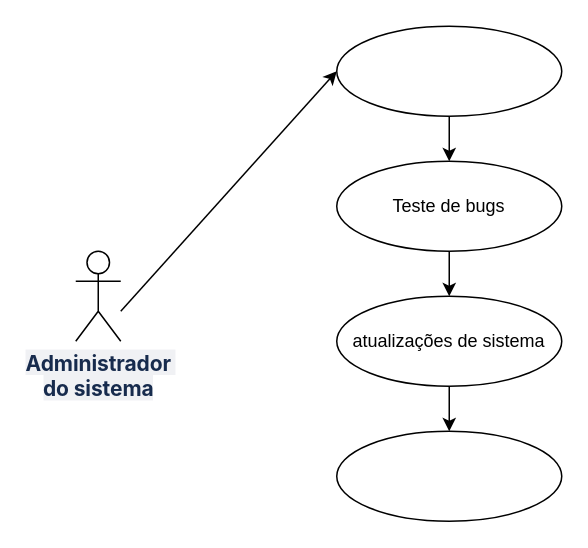
Some shapes in this 588 by 548 pixel diagram are drawn without their labels. The centre of each missing label's shape, as x and y in pixels:
"Verificação completa" goes at pixel 448 475.
"Verificação de segurança e manutenção do site" goes at pixel 448 70.
